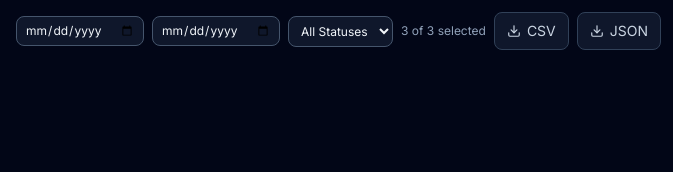
<TransactionExporter /> › narrows the selection by status
Select "Failed" in the dropdown named "Export status" at (340, 31), box [288,16,393,46]
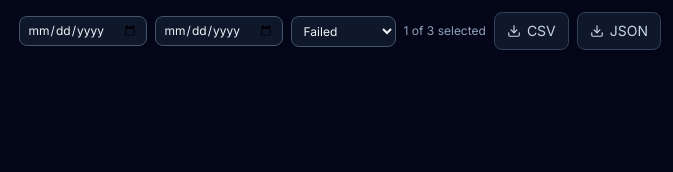
Expected: the message with test id "export-count" reads "1 of 3 selected", [404,23,486,39]
